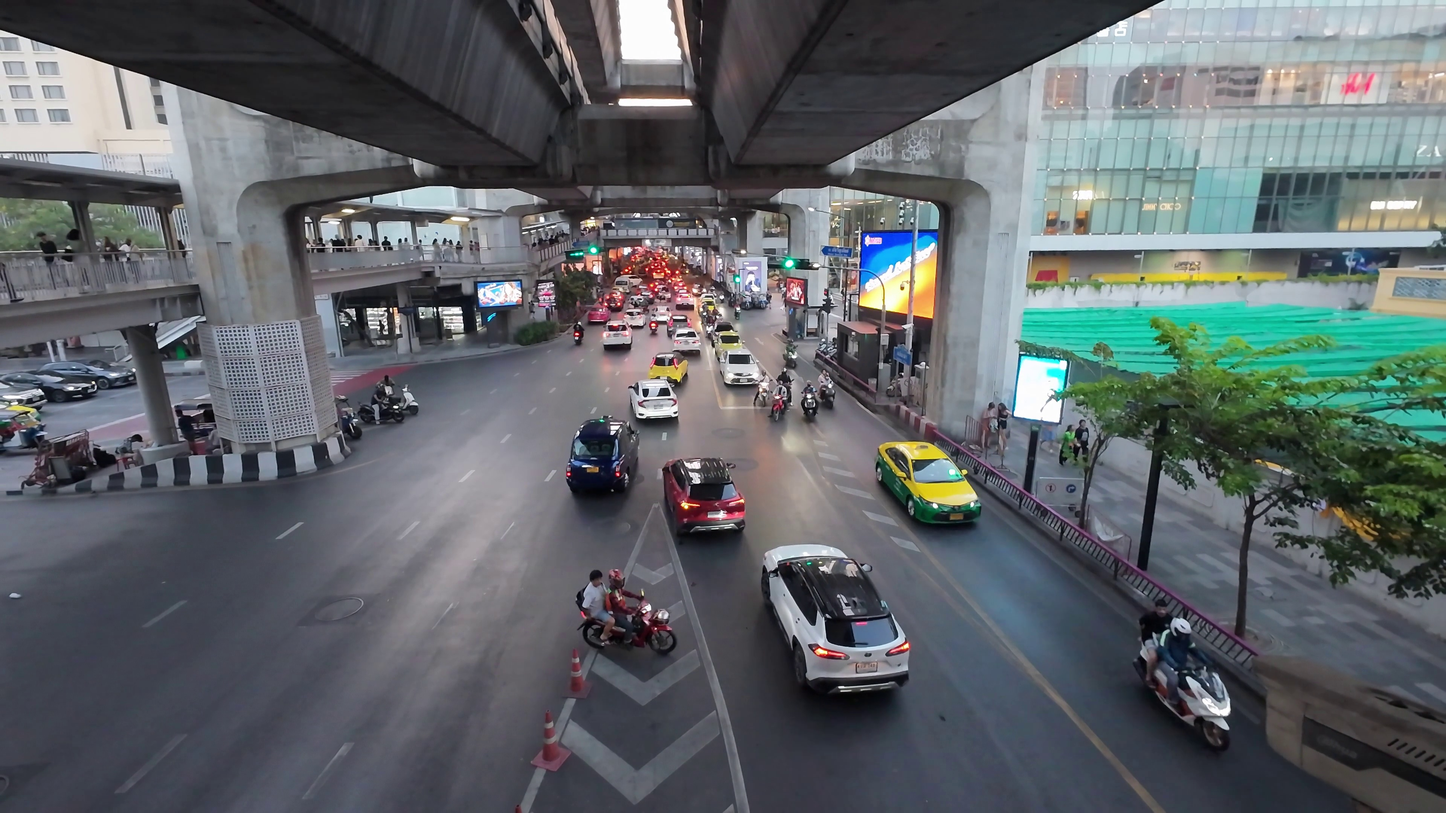license_plate: (798, 634, 875, 683), (1156, 709, 1206, 745), (900, 493, 953, 522), (682, 503, 725, 529), (584, 464, 618, 489), (27, 387, 78, 399), (359, 410, 399, 423), (642, 407, 668, 420), (732, 375, 753, 386)
motorcycle: (1130, 610, 1232, 752), (340, 375, 419, 426)
no_seatbelt: (783, 565, 890, 641), (889, 453, 964, 498), (673, 467, 734, 507), (577, 428, 625, 468), (18, 370, 88, 389), (637, 388, 673, 409), (728, 359, 757, 376)
